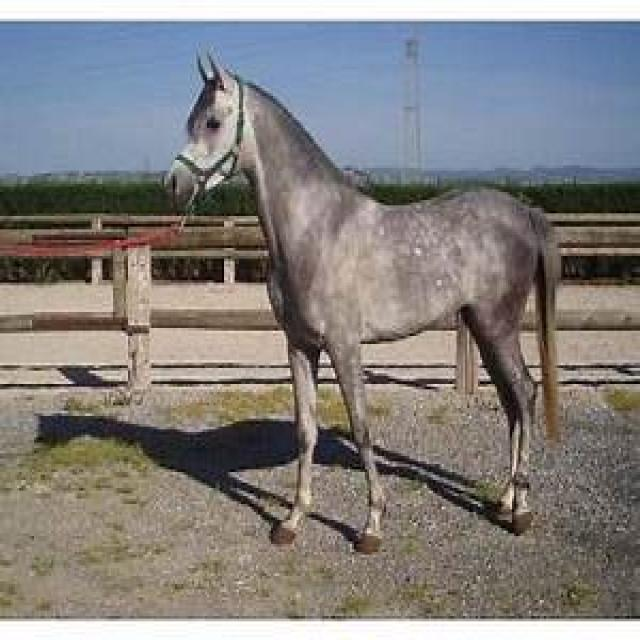horse: (166, 48, 563, 555)
